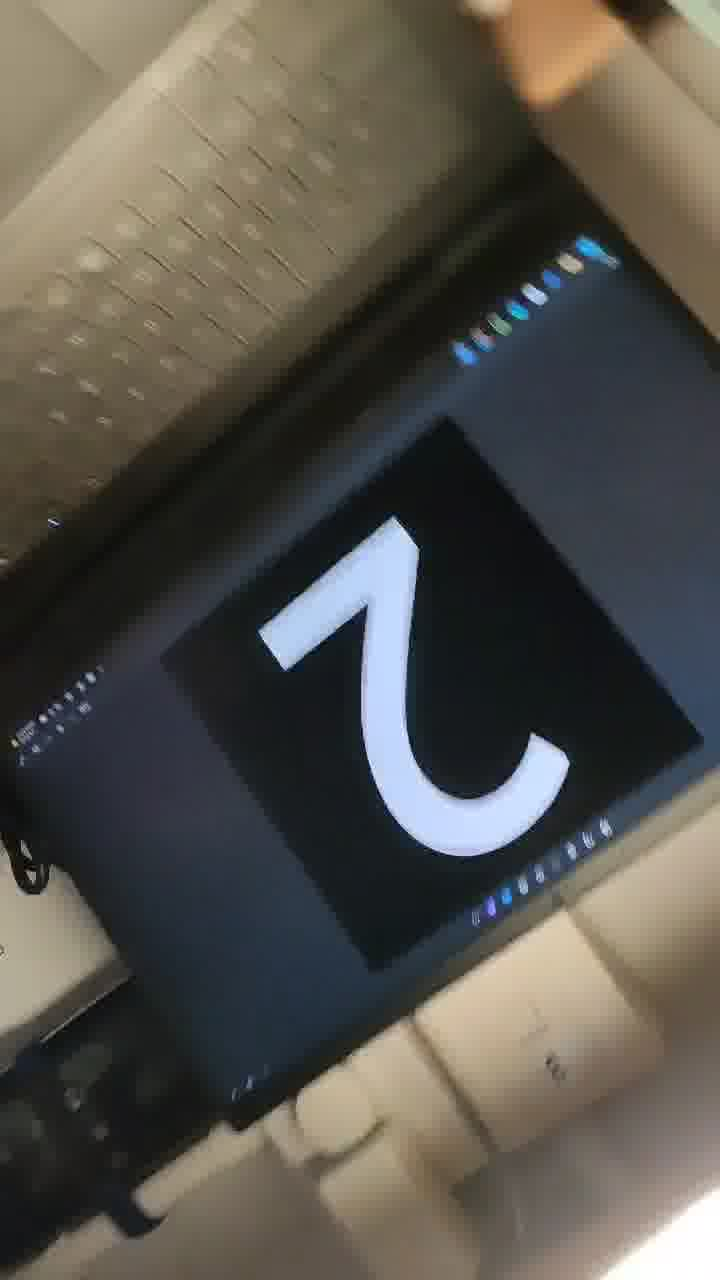two: (216, 465, 605, 912)
